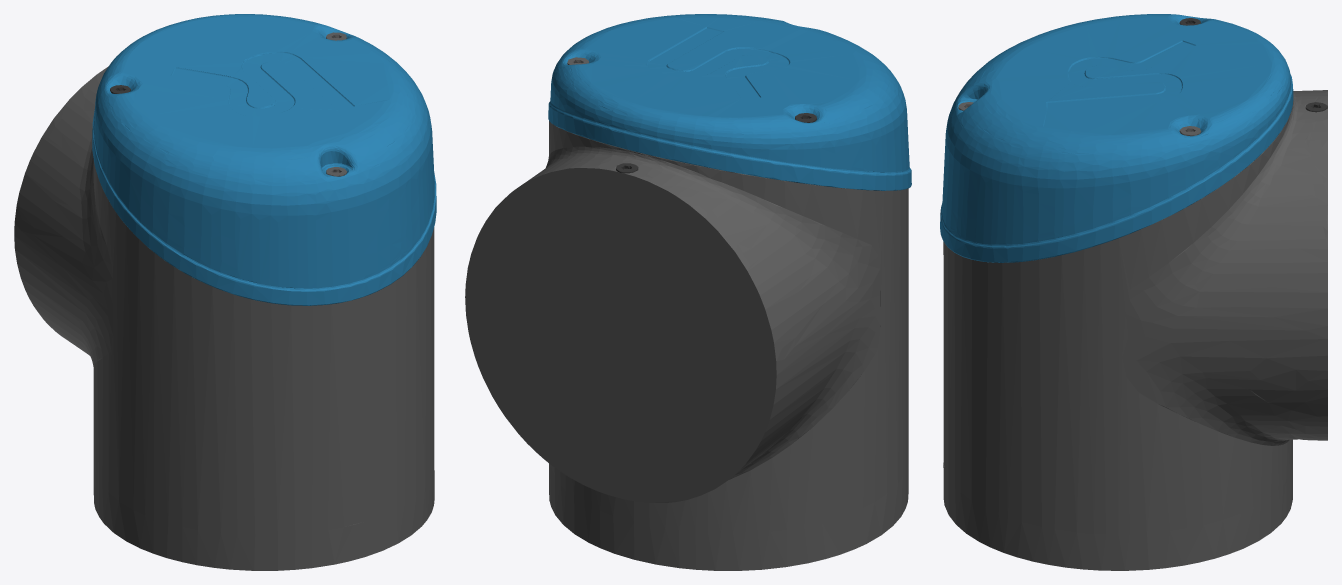
File: shoulder.dae
3 views of the same model, side by side, from view 1: azimuth 30°, elevation 25°; view 2: azimuth 150°, elevation 25°; view 3: azimuth 270°, elevation 25° (orthographic). The views are drawn at different scales.
Parts seen in each view (by area): view 1: node0, node1; view 2: node0, node1; view 3: node0, node1.
Boxes of the visible parts, x1,y1,x2,y2 form: node0: (14,66,434,570); node1: (92,14,436,305); node0: (465,121,908,570); node1: (548,14,911,190); node0: (943,90,1327,570); node1: (940,14,1293,262).
Size of the model in its own units: 0.091 by 0.0999 by 0.1229.
